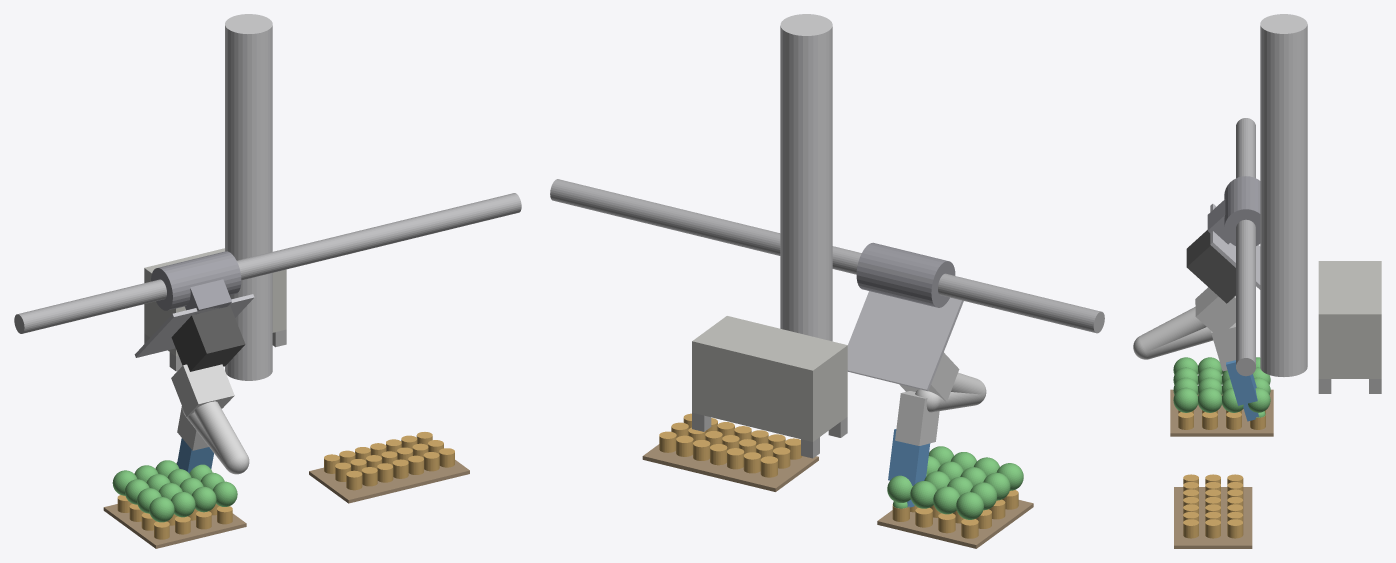
Rendered from pod-grab-roll-rolled.glb.
3 renders of one model, left to right at view 1: azimuth 30°, elevation 25°; view 2: azimuth 150°, elevation 25°; view 3: azimuth 270°, elevation 25°, orthographic. The views are drawn at different scales.
Parts seen in each view (by area): view 1: pillar, track_pipe, arm_base_foot, sleeve, store_shelf, shoulder_housing, station_box, upper_arm, tray, plate, hand_arm, forearm (+2 smaller); view 2: pillar, station_box, track_pipe, plate, sleeve, store_shelf, tray, wrist_housing, gripper_body, forearm, shoulder_housing; view 3: pillar, station_box, track_pipe, store_shelf, arm_base_foot, sleeve, tray, upper_arm, shoulder_housing, forearm, gripper_body, plate (+6 smaller).
Boxes of the visible parts, x1=… form: pillar: x1=225, y1=14, x2=272, y2=380; track_pipe: x1=14, y1=193, x2=521, y2=333; arm_base_foot: x1=171, y1=306, x2=245, y2=371; sleeve: x1=151, y1=251, x2=241, y2=310; store_shelf: x1=309, y1=460, x2=469, y2=503; shoulder_housing: x1=171, y1=364, x2=234, y2=416; station_box: x1=144, y1=248, x2=286, y2=356; upper_arm: x1=194, y1=401, x2=249, y2=474; tray: x1=103, y1=504, x2=246, y2=548; plate: x1=134, y1=294, x2=254, y2=357; hand_arm: x1=185, y1=279, x2=231, y2=314; forearm: x1=182, y1=407, x2=249, y2=474; pillar: x1=780, y1=14, x2=832, y2=341; station_box: x1=692, y1=316, x2=847, y2=441; track_pipe: x1=550, y1=179, x2=1104, y2=333; plate: x1=847, y1=291, x2=963, y2=391; sleeve: x1=856, y1=242, x2=955, y2=307; store_shelf: x1=642, y1=444, x2=818, y2=491; tray: x1=877, y1=500, x2=1033, y2=548; wrist_housing: x1=895, y1=391, x2=939, y2=445; gripper_body: x1=888, y1=429, x2=930, y2=485; forearm: x1=915, y1=381, x2=986, y2=412; shoulder_housing: x1=899, y1=352, x2=959, y2=401; pillar: x1=1260, y1=14, x2=1307, y2=376; station_box: x1=1318, y1=261, x2=1381, y2=378; track_pipe: x1=1236, y1=118, x2=1255, y2=376; store_shelf: x1=1174, y1=487, x2=1252, y2=548; arm_base_foot: x1=1186, y1=230, x2=1235, y2=303; sleeve: x1=1224, y1=176, x2=1260, y2=245; tray: x1=1170, y1=389, x2=1273, y2=436; upper_arm: x1=1133, y1=306, x2=1206, y2=359; shoulder_housing: x1=1195, y1=287, x2=1235, y2=337; forearm: x1=1133, y1=327, x2=1213, y2=359; gripper_body: x1=1226, y1=360, x2=1257, y2=405; plate: x1=1210, y1=204, x2=1260, y2=289.
Bounding box in the file's own units: 0.9 × 0.778 × 0.3936.
